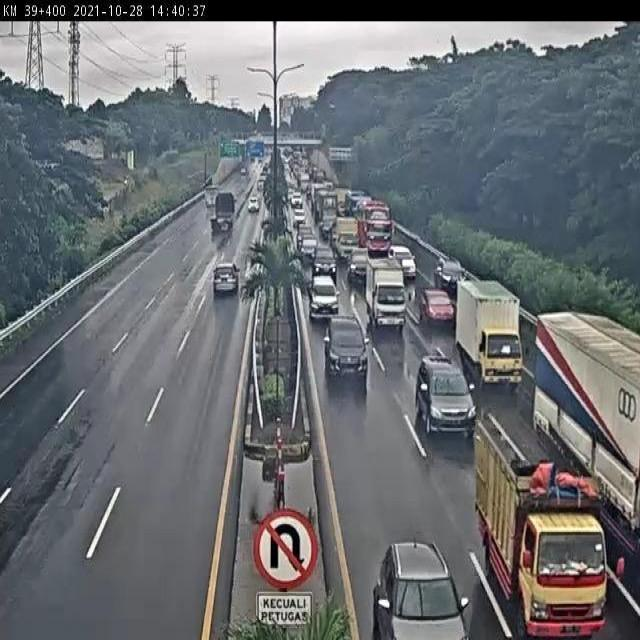big truck: (203, 196, 235, 249)
car: (412, 356, 473, 433), (324, 316, 368, 376), (309, 273, 342, 324), (420, 284, 453, 329), (432, 253, 466, 292), (385, 245, 417, 283), (208, 268, 240, 299), (348, 249, 371, 279)
truck-l-: (537, 313, 640, 556)
truck-m-: (472, 413, 606, 640), (456, 278, 523, 391)
truck-s-: (367, 259, 407, 333)
